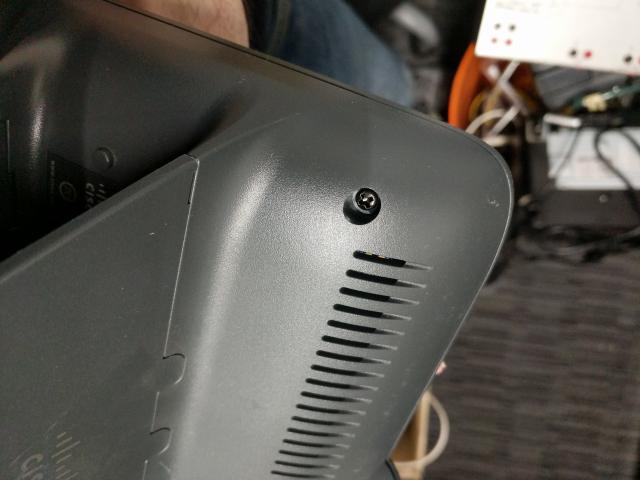CRS: (354, 188, 380, 216)
